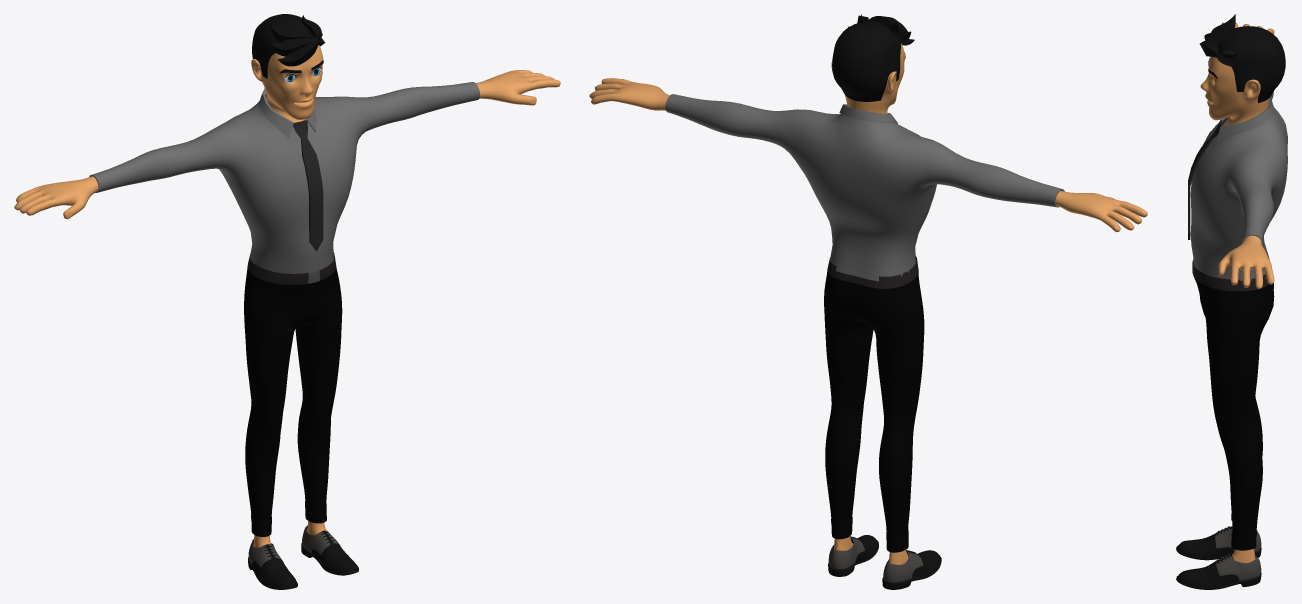
The model's file is man_2.gltf.
The picture shows the model from 3 angles, left to right: view 1: azimuth 30°, elevation 25°; view 2: azimuth 150°, elevation 25°; view 3: azimuth 270°, elevation 25°; orthographic projection. The views are drawn at different scales.
Visible parts, largest first — view 1: Shirt, Trouser.001, Body.003, Shoes.003, Hair.003, Tie; view 2: Shirt, Trouser.001, Body.003, Hair.003, Shoes.003; view 3: Trouser.001, Shirt, Body.003, Hair.003, Shoes.003, Tie.
Part boxes in pixels (box(x1,y1,x2,y2)): Shirt: box(89, 82, 480, 273); Trouser.001: box(244, 252, 342, 536); Body.003: box(14, 45, 560, 547); Shoes.003: box(248, 525, 358, 589); Hair.003: box(252, 14, 325, 78); Tie: box(293, 120, 323, 251); Shirt: box(665, 94, 1064, 281); Trouser.001: box(824, 256, 924, 552); Body.003: box(589, 43, 1147, 564); Hair.003: box(832, 14, 914, 101); Shoes.003: box(828, 535, 941, 589); Trouser.001: box(1192, 259, 1274, 550); Shirt: box(1190, 92, 1287, 281); Body.003: box(1200, 23, 1274, 562); Hair.003: box(1199, 14, 1285, 102); Shoes.003: box(1176, 526, 1261, 589); Tie: box(1188, 120, 1222, 239).
Bounding box in the file's own units: 7.97 × 7.77 × 1.45.
8 materials, 2 textured.
